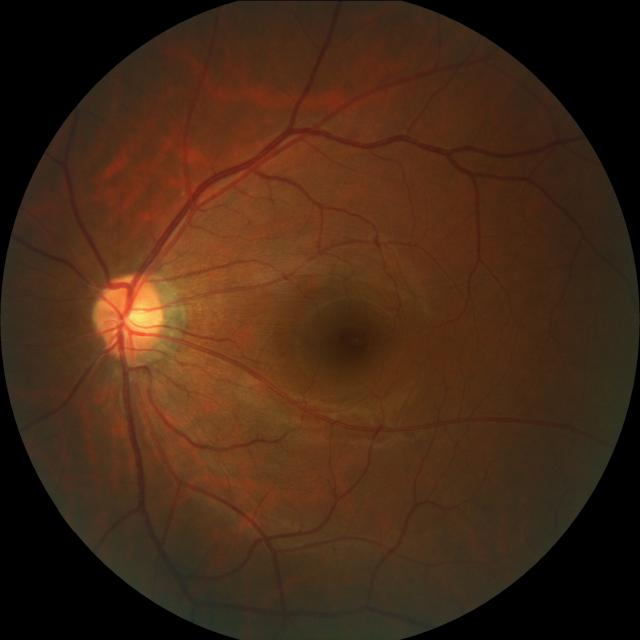OC: (117, 299, 151, 334)
OD: (96, 272, 167, 358)
